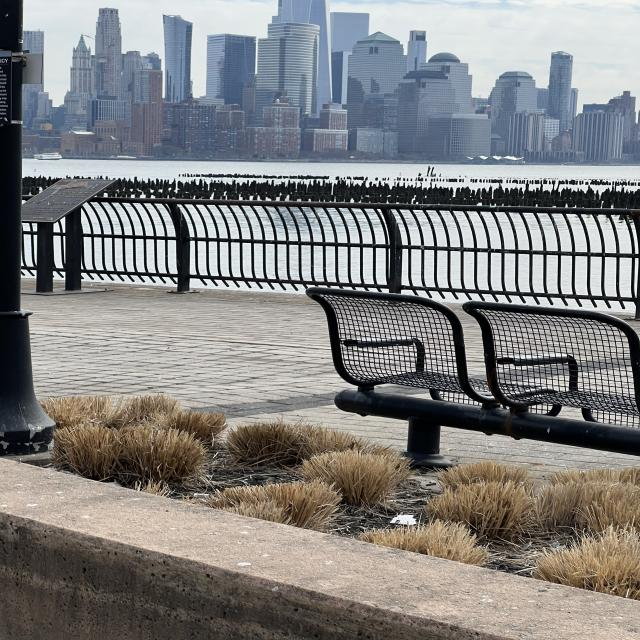WTC: (278, 0, 327, 25)
